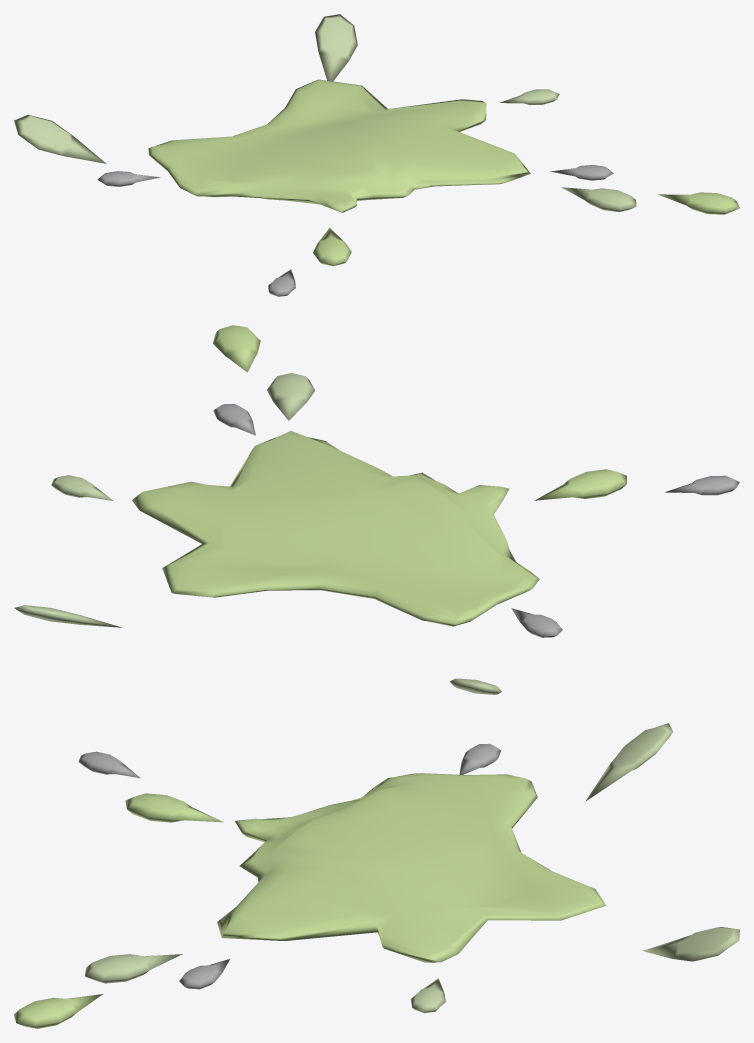
Rendered from Poop_ground.fbx.
3 views of the same model, one above another, from view 1: azimuth 30°, elevation 25°; view 2: azimuth 150°, elevation 25°; view 3: azimuth 270°, elevation 25° (orthographic). The views are drawn at different scales.
Visible parts, largest first — view 1: polySurface850; view 2: polySurface850; view 3: polySurface850.
Part boxes in pixels (x1,y1,x2,y2): polySurface850: [14, 14, 739, 296]; polySurface850: [14, 325, 739, 694]; polySurface850: [14, 723, 739, 1028].
Size of the model in its own units: 1.73 by 0.1436 by 1.83.
